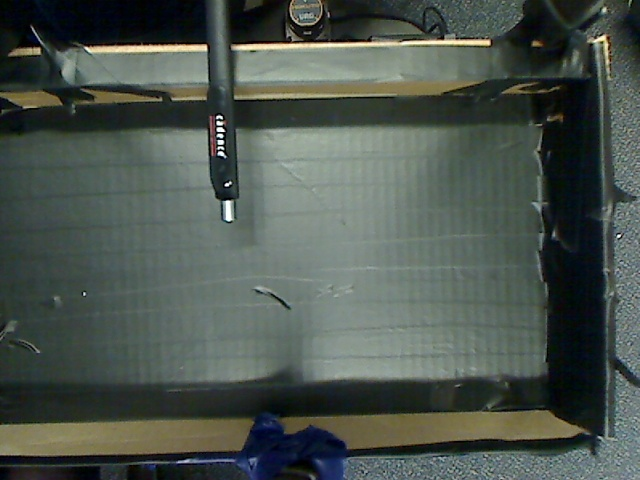pen: (193, 1, 254, 238)
